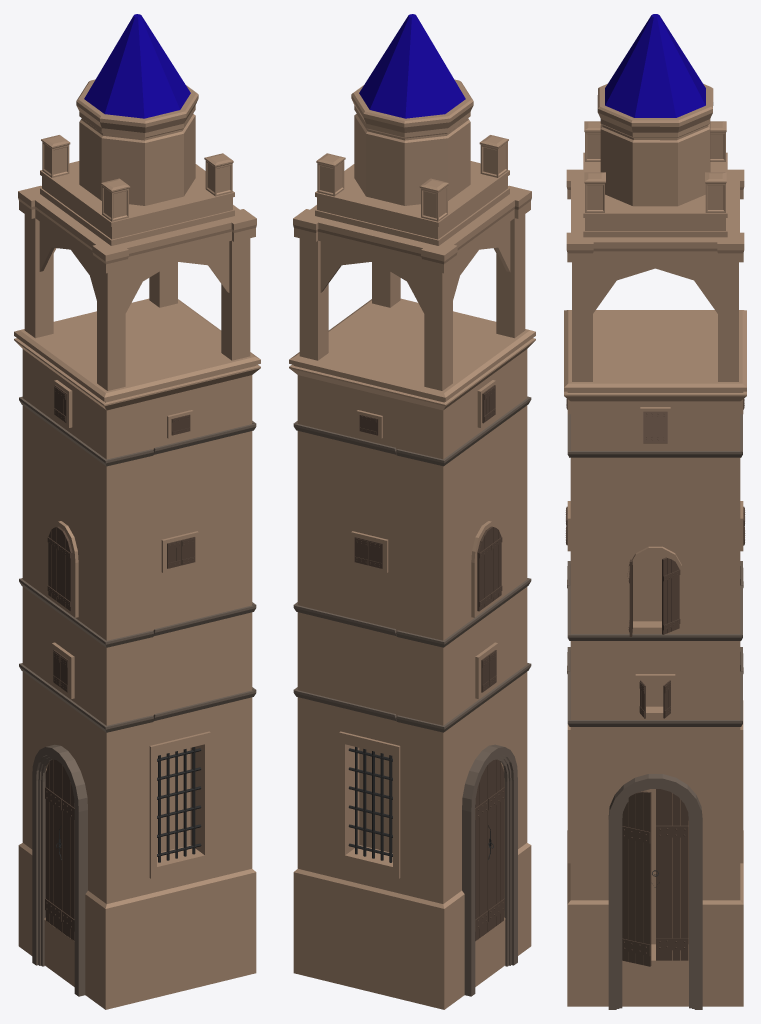
The model's file is tower.fbx.
3 views of the same model, side by side, from view 1: azimuth 30°, elevation 25°; view 2: azimuth 150°, elevation 25°; view 3: azimuth 270°, elevation 25° (orthographic).
Parts seen in each view (by area): view 1: Main_Build, upper, Door_Bend_1, Belts, Door_3, win2, Door_4, Win_10, Win_9; view 2: Main_Build, upper, Door_Bend_1, Belts, Door_4, win1, Door_3, Win_9, Win_10; view 3: Main_Build, upper, Door_Bend_2, Door_2, Door_1, Belts, Win_6, Win_13.
Part boxes in pixels (box(x1,y1,x2,y2)): Main_Build: box(18, 349, 256, 1009); upper: box(14, 14, 260, 410); Door_Bend_1: box(32, 744, 87, 996); Belts: box(19, 396, 256, 732); Door_3: box(45, 759, 62, 931); win2: box(157, 747, 201, 862); Door_4: box(61, 765, 74, 941); Win_10: box(59, 528, 72, 611); Win_9: box(47, 526, 61, 602); Main_Build: box(293, 349, 531, 1009); upper: box(289, 14, 535, 410); Door_Bend_1: box(462, 744, 517, 996); Belts: box(293, 396, 531, 732); Door_4: box(487, 759, 504, 931); win1: box(348, 747, 392, 862); Door_3: box(475, 765, 488, 941); Win_9: box(477, 528, 490, 611); Win_10: box(488, 526, 502, 602); Main_Build: box(567, 399, 743, 1006); upper: box(564, 14, 746, 401); Door_Bend_2: box(608, 774, 702, 1009); Door_2: box(656, 789, 688, 960); Door_1: box(622, 791, 651, 966); Belts: box(567, 414, 743, 726); Win_6: box(662, 557, 680, 634); Win_13: box(643, 411, 667, 443).
Bounding box in the file's own units: 244 × 1241 × 215.
